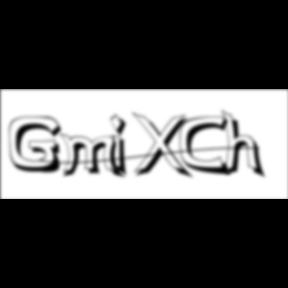C: (180, 115, 234, 178)
G: (9, 116, 68, 176)
X: (131, 112, 195, 182)
h: (222, 108, 268, 182)
i: (110, 112, 134, 180)
m: (59, 132, 127, 181)
